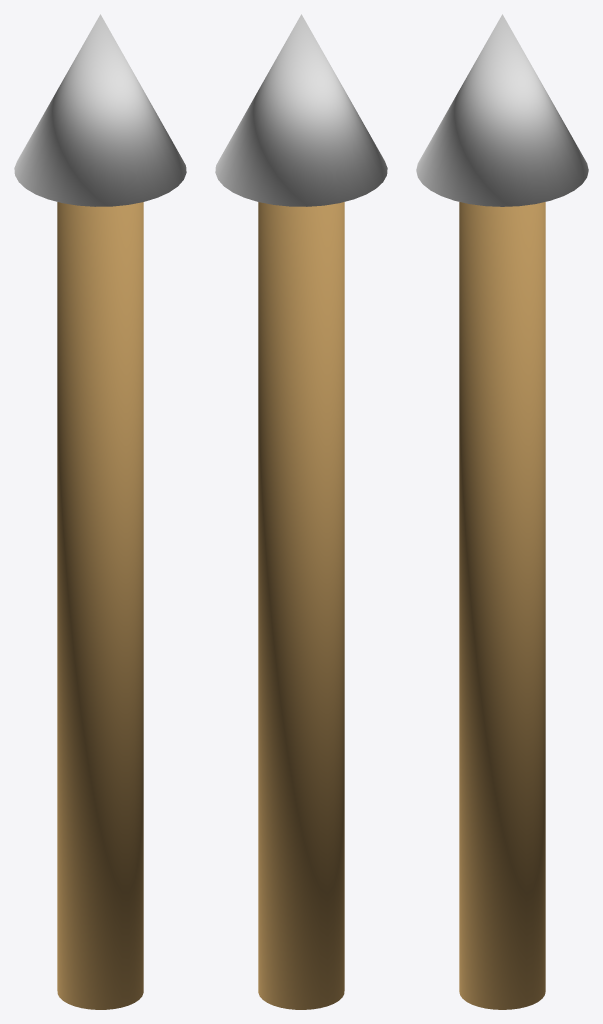
The model's file is arrow.glb.
3 renders of one model, left to right at view 1: azimuth 30°, elevation 25°; view 2: azimuth 150°, elevation 25°; view 3: azimuth 270°, elevation 25°, orthographic.
Parts seen in each view (by area): view 1: Cylinder; view 2: Cylinder; view 3: Cylinder.
Boxes of the visible parts, x1,y1,x2,y2 form: Cylinder: [14, 14, 186, 1009]; Cylinder: [215, 14, 387, 1009]; Cylinder: [416, 14, 588, 1009].
Bounding box in the file's own units: 0.04 × 0.25 × 0.04.
